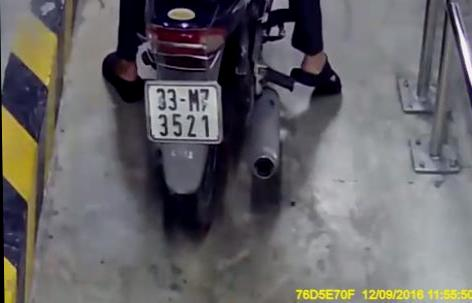License_Plate: (138, 80, 227, 151)
